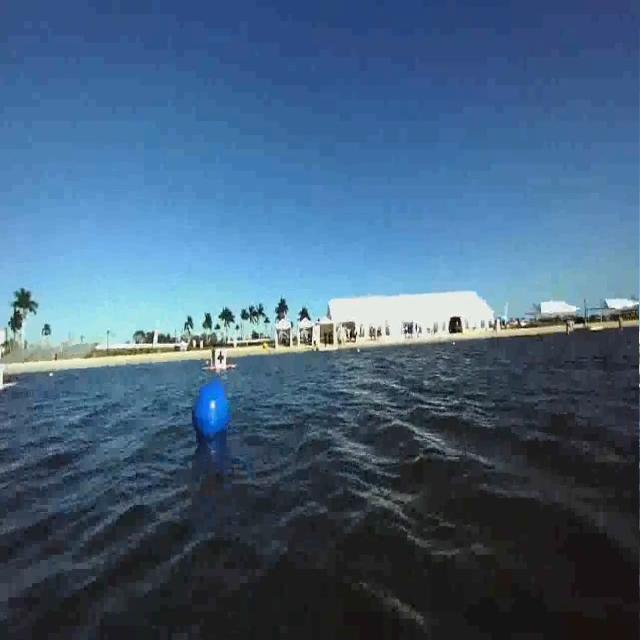blue-buoy: (193, 370, 232, 442)
